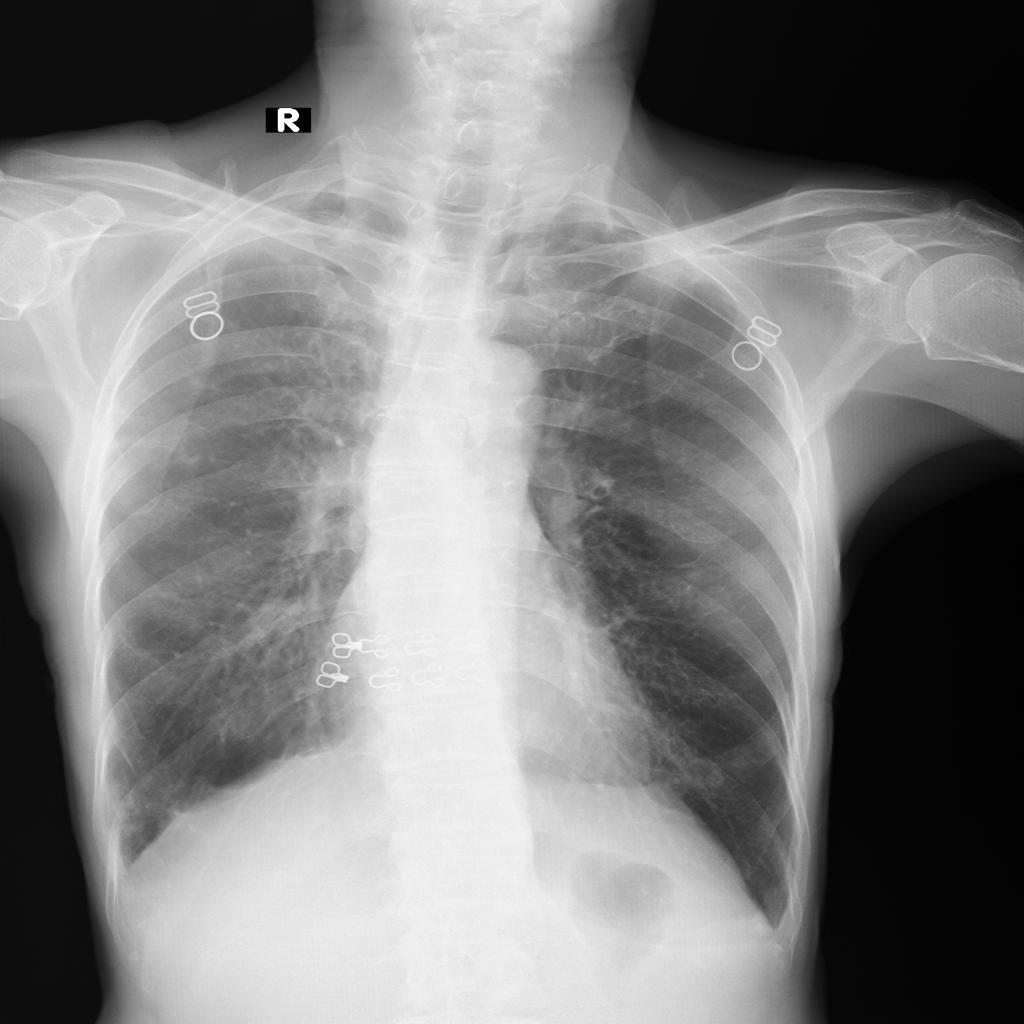Nodule: (689, 584, 743, 612)
